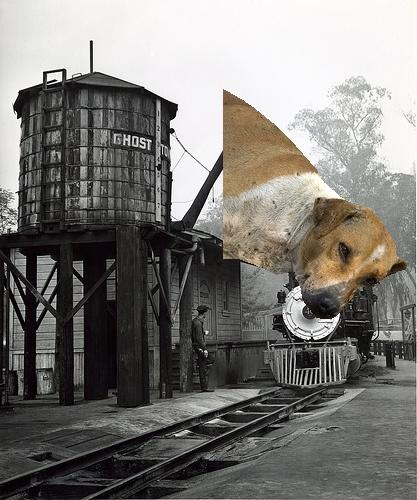tampered: (224, 90, 407, 319)
